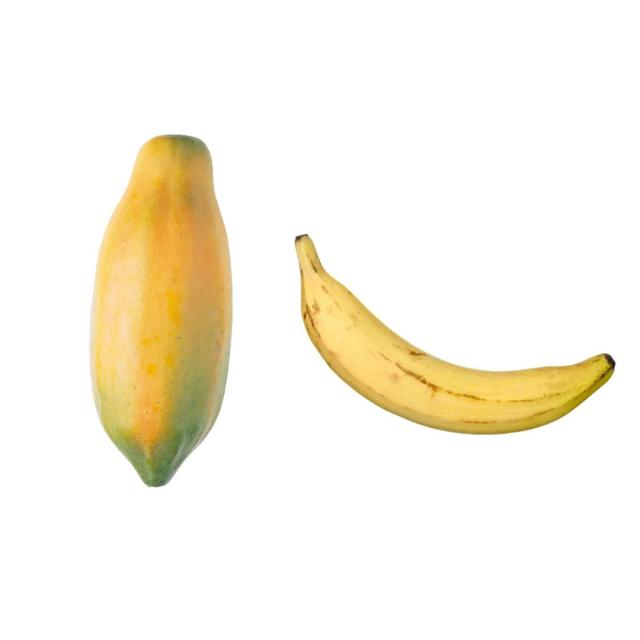Pepaya: (89, 133, 234, 487)
Pisang: (294, 232, 616, 435)
